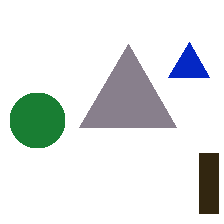circle: (10, 93, 64, 147)
rectangle: (199, 153, 218, 213)
triangle: (79, 44, 176, 127), (168, 42, 209, 77)
